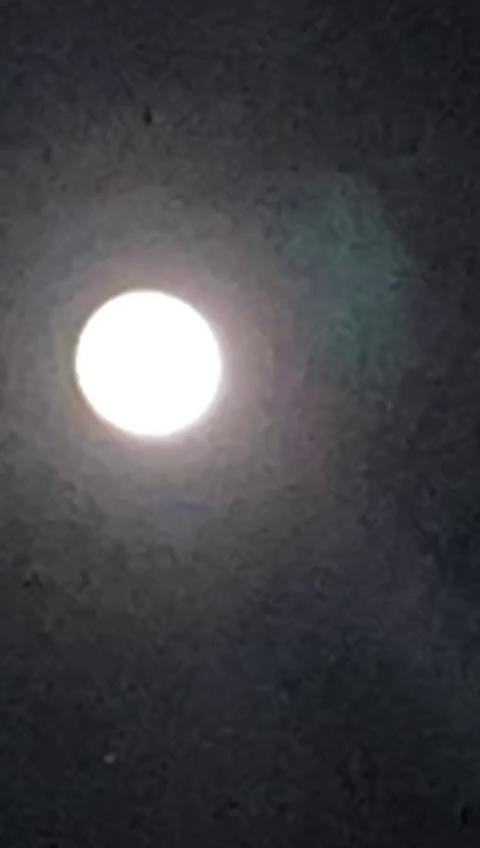moon: (64, 274, 236, 465)
